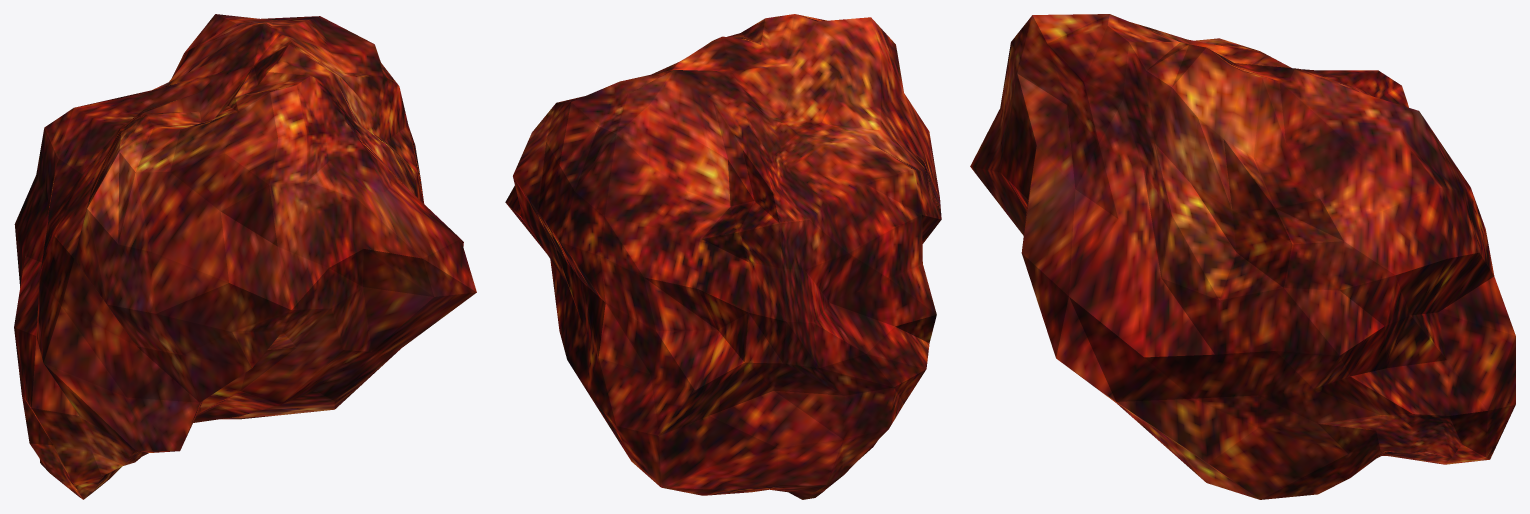
Rendered from lavaball.obj.
3 renders of one model, left to right at view 1: azimuth 30°, elevation 25°; view 2: azimuth 150°, elevation 25°; view 3: azimuth 270°, elevation 25°, orthographic. The views are drawn at different scales.
Size of the model in its own units: 16.95 by 16.95 by 16.95.
1 material, 1 textured.
